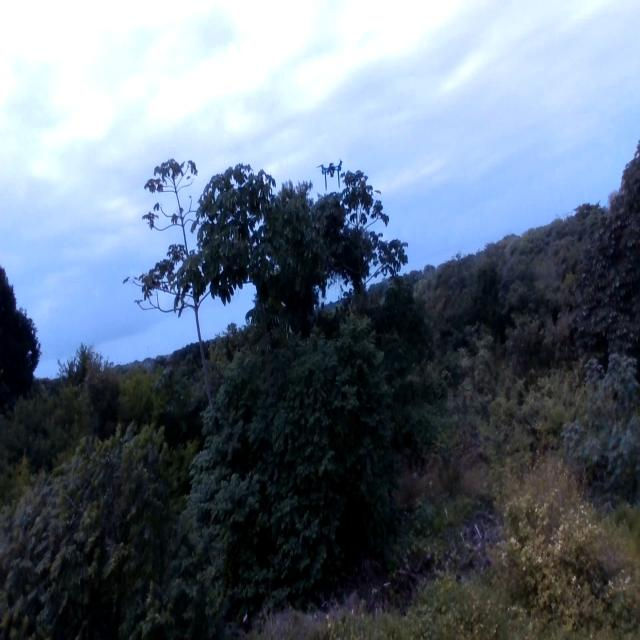-uav-: (318, 154, 347, 193)
